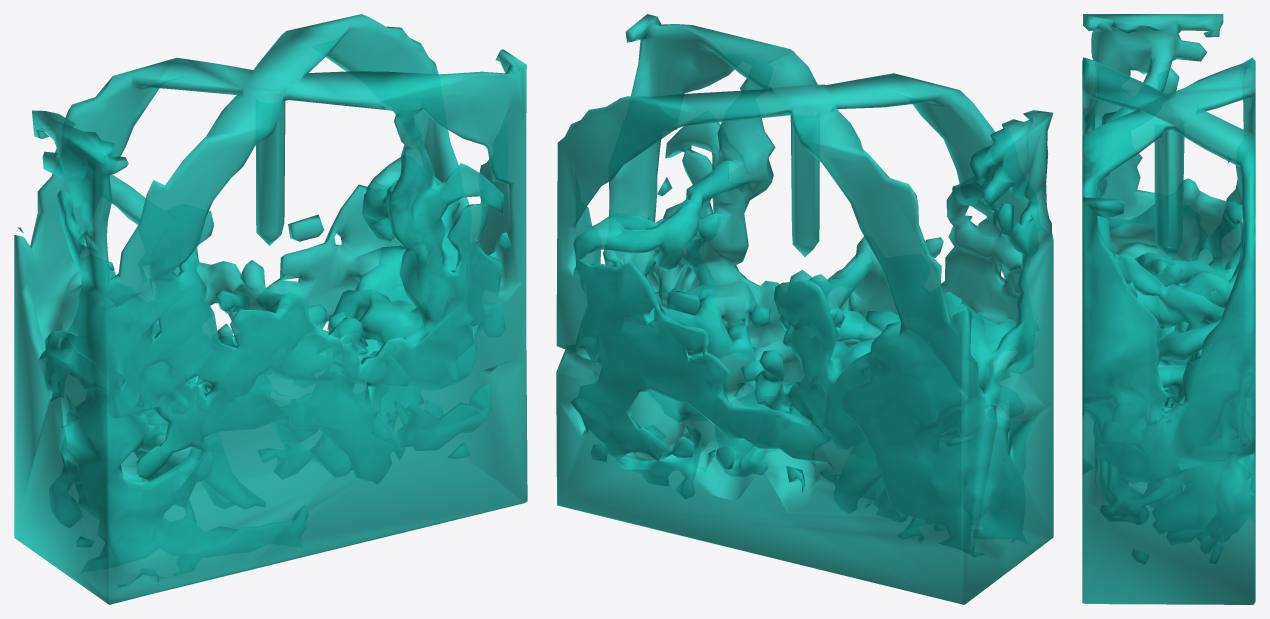
3 renders of one model, left to right at view 1: azimuth 30°, elevation 25°; view 2: azimuth 150°, elevation 25°; view 3: azimuth 270°, elevation 25°, orthographic. The views are drawn at different scales.
Visible parts, largest first — view 1: Liquid_Domain; view 2: Liquid_Domain; view 3: Liquid_Domain.
Part boxes in pixels (bbox=[...]): Liquid_Domain: bbox=[14, 14, 527, 604]; Liquid_Domain: bbox=[556, 14, 1053, 604]; Liquid_Domain: bbox=[1082, 14, 1255, 604].
Bounding box in the file's own units: 1966 × 1965 × 766.
